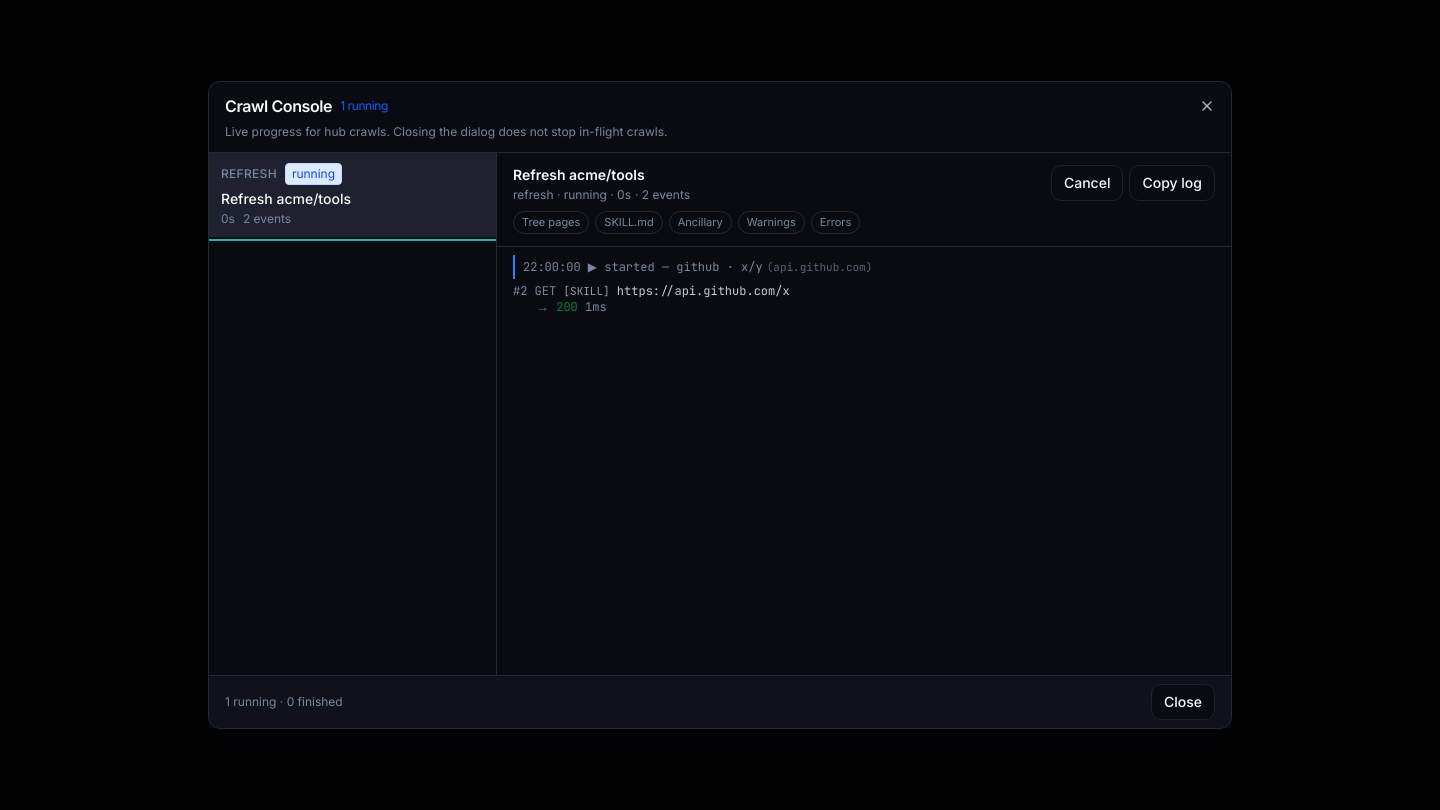
Test: CrawlConsoleDialog — filter chips › 'Clear filters' restores the default view
The image size is (1440, 810).
Step 1. Click the button "Tree pages" → coordinates (551, 222), box [513,211,589,234]
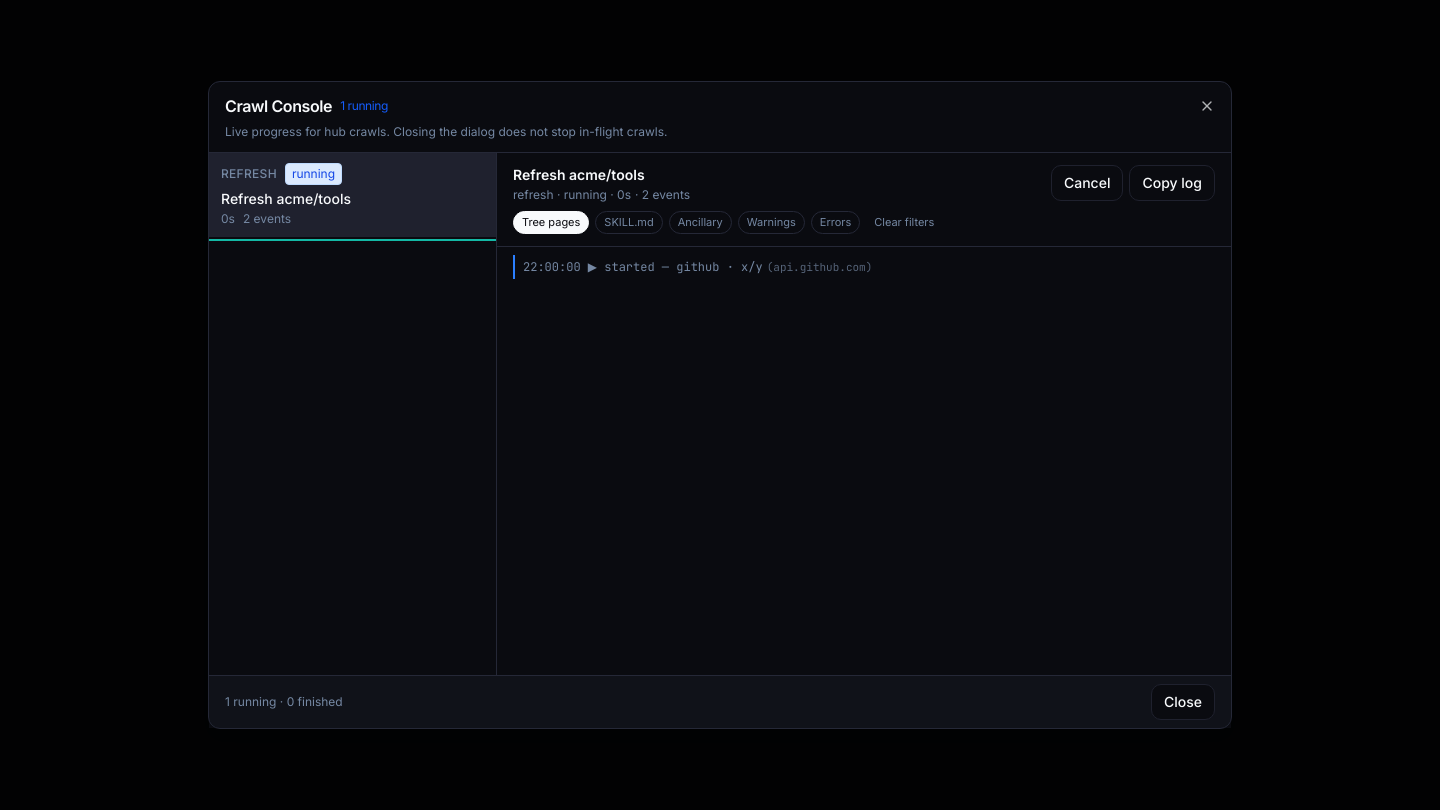
Check: the text "api.github.com/x" is gone
Step 2. Click the button "Clear filters" → coordinates (904, 222), box [866,211,942,234]
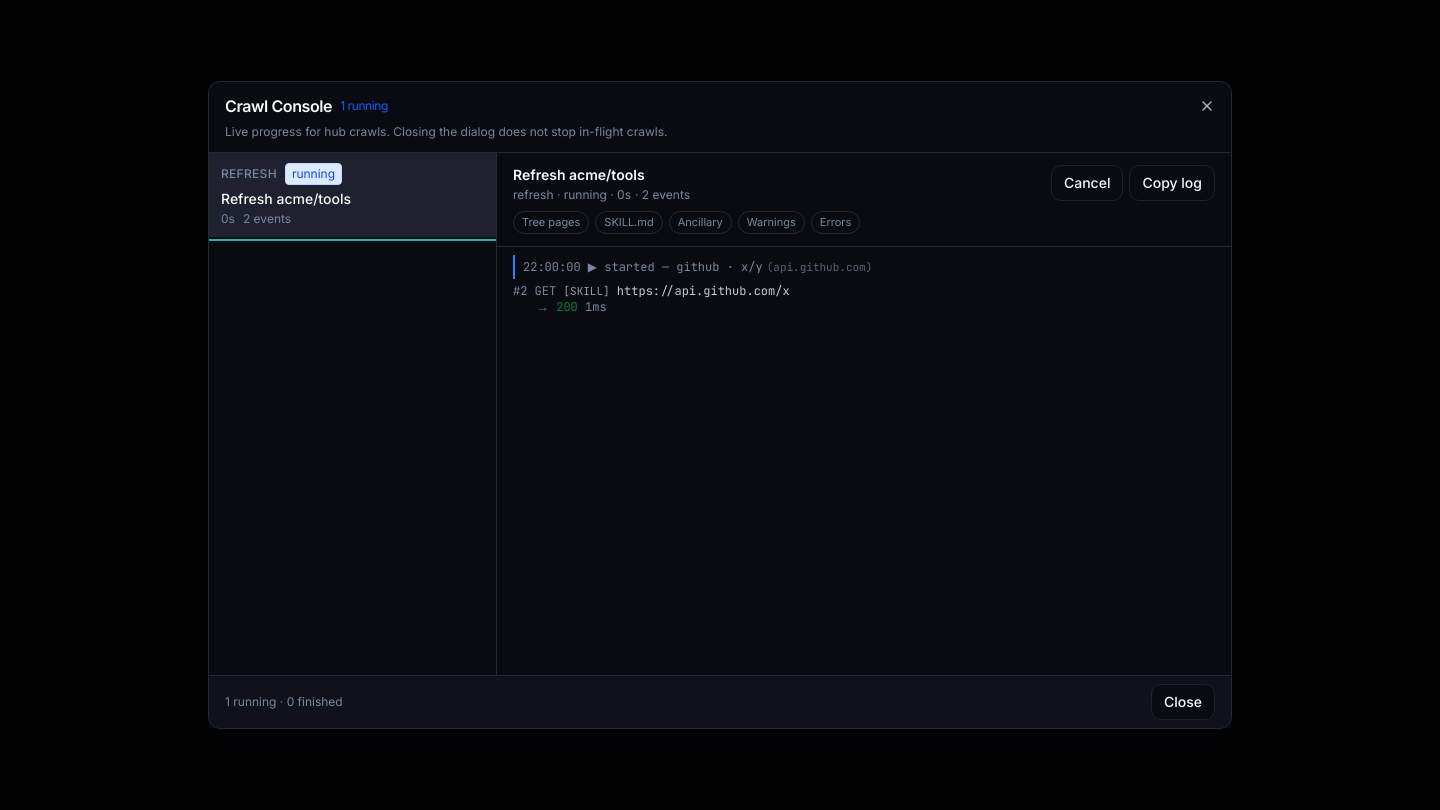
Check: the text "https://api.github.com/x" is shown, box [617,282,790,298]
